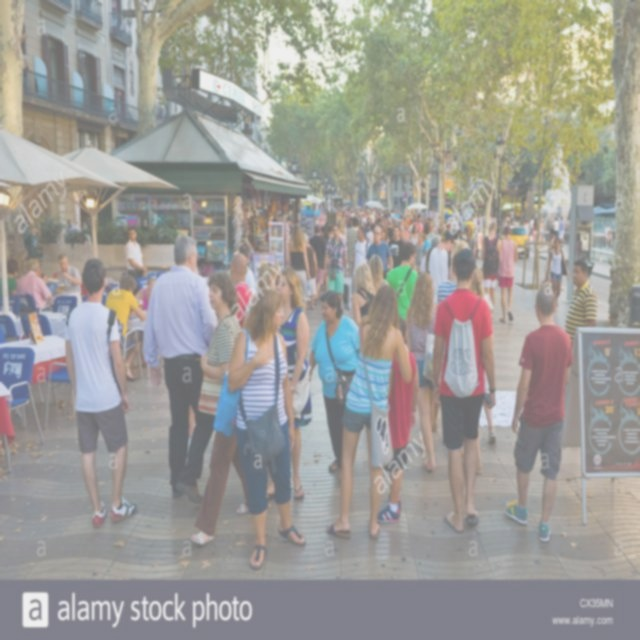pessoa: (226, 286, 306, 572), (326, 283, 414, 541), (141, 236, 218, 505), (64, 256, 138, 530), (431, 246, 497, 534), (502, 284, 575, 544), (188, 272, 250, 546), (304, 288, 368, 485), (241, 260, 290, 491), (273, 266, 313, 502), (376, 314, 420, 524), (405, 270, 439, 470), (103, 273, 147, 382), (564, 258, 598, 348), (384, 240, 420, 324), (286, 222, 312, 313), (480, 220, 502, 322), (134, 277, 158, 368), (16, 258, 53, 313), (498, 224, 518, 323), (228, 252, 253, 330), (324, 222, 348, 303), (428, 229, 454, 302), (546, 237, 570, 314), (352, 263, 379, 328), (226, 242, 258, 295), (350, 225, 372, 300), (434, 248, 462, 306), (366, 225, 394, 280), (308, 223, 327, 301), (322, 206, 404, 224), (57, 252, 83, 306), (468, 266, 494, 316), (124, 225, 148, 278), (302, 233, 318, 312), (501, 207, 534, 234), (368, 254, 390, 294), (346, 216, 360, 278), (541, 227, 556, 284), (387, 224, 405, 271), (22, 214, 46, 244), (544, 230, 557, 284), (456, 223, 478, 254), (414, 232, 425, 270), (602, 222, 616, 250), (422, 224, 432, 258), (471, 210, 497, 223), (338, 217, 348, 245), (380, 223, 393, 243), (409, 224, 420, 246), (404, 208, 414, 232), (64, 218, 77, 236), (366, 223, 377, 244), (558, 216, 566, 244), (538, 219, 546, 247), (428, 218, 438, 240), (414, 213, 424, 234), (320, 223, 333, 239), (531, 218, 538, 242), (286, 214, 294, 234), (553, 216, 560, 238), (399, 224, 408, 240), (431, 235, 442, 248), (444, 220, 452, 230)
